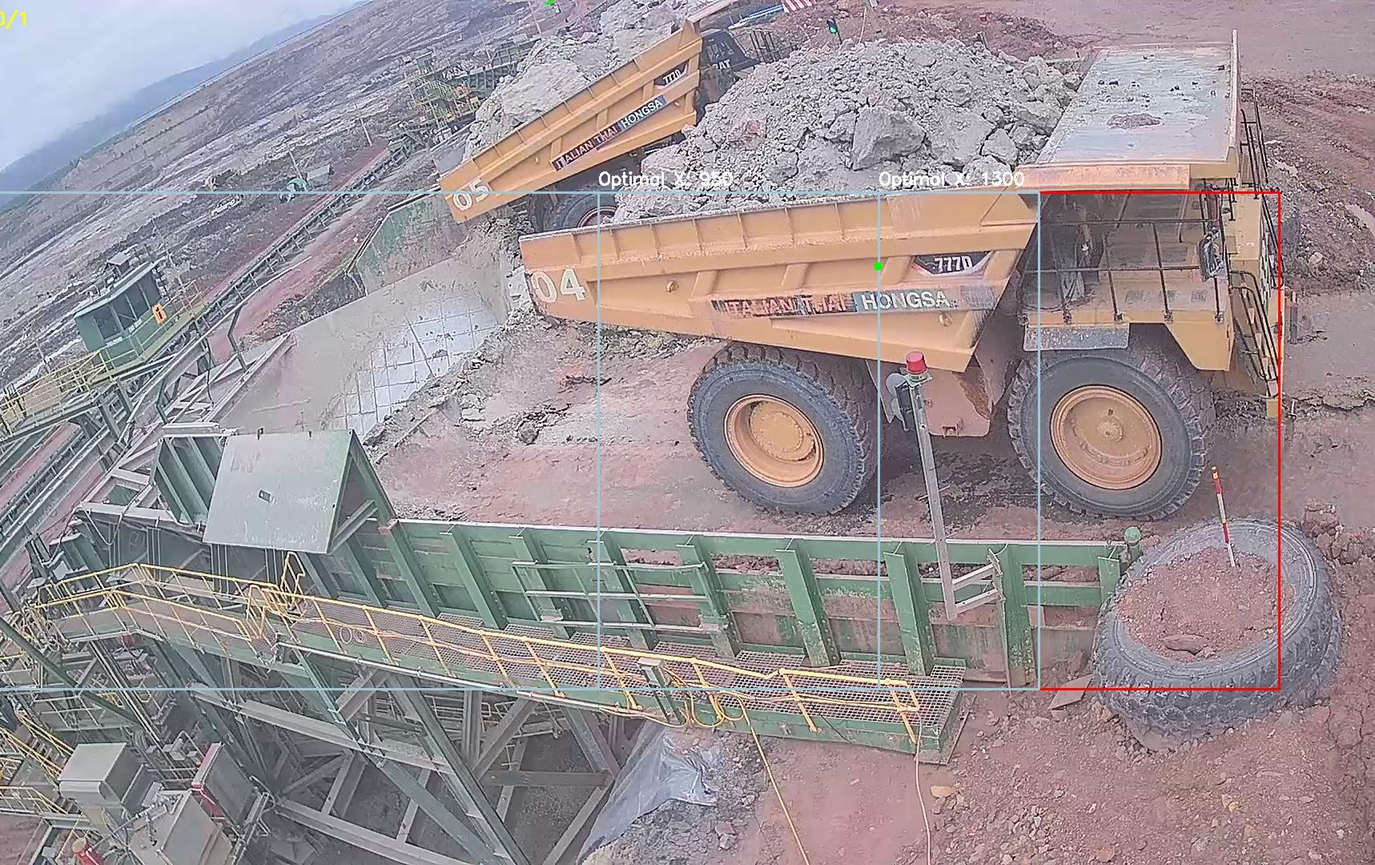company: (702, 279, 971, 322)
full_load: (722, 33, 1025, 220)
mining_truck: (500, 17, 1313, 523)
tail_number: (519, 253, 603, 322)
truck_size: (907, 233, 991, 283)
